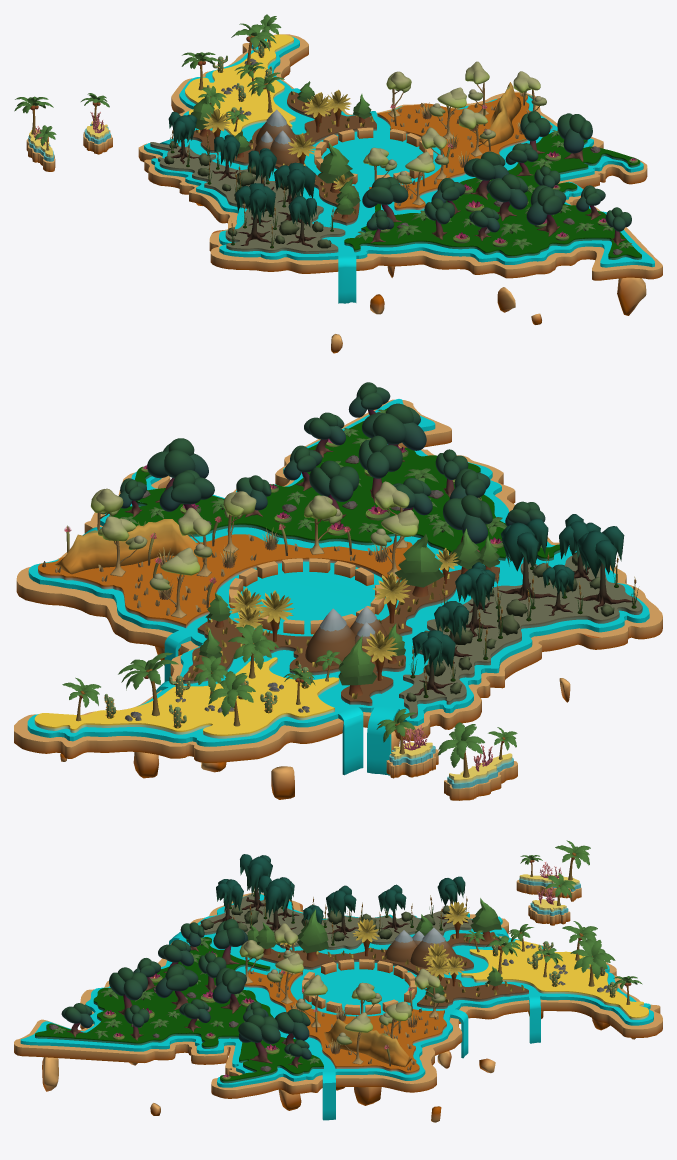
The model's file is Colombia Con Imagenes.fbx.
The picture shows the model from 3 angles, top to bottom: view 1: azimuth 30°, elevation 25°; view 2: azimuth 150°, elevation 25°; view 3: azimuth 270°, elevation 25°; orthographic projection. The views are drawn at different scales.
Visible parts, largest first — view 1: Malla agua 1, Malla Piso Colombia, Malla Amazonas, Malla Pacifico, Malla Orinoquia, Malla Atlantico, Malla Andina, Muro.009, Arbol Pacifico.005, Arbol Amazonas.007, Montañas orinoquia, Arbol Amazonas.006 (+31 smaller); view 2: Malla agua 1, Malla Piso Colombia, Malla Amazonas, Malla Orinoquia, Malla Atlantico, Malla Pacifico, Malla Andina, Montañas orinoquia, Muro.009, Arbol Pacifico.007, Arbol Pacifico.005, Arbol Amazonas.007 (+44 smaller); view 3: Malla agua 1, Malla Piso Colombia, Malla Amazonas, Malla Atlantico, Malla Orinoquia, Malla Andina, Malla Pacifico, Muro.009, Montañas orinoquia, Arbol Amazonas.012, Arbol Pacifico.007, Arbol Amazonas.006 (+36 smaller).
Boxes of the visible parts, x1=… form: Malla agua 1: x1=144, y1=36, x2=654, y2=303; Malla Piso Colombia: x1=138, y1=34, x2=662, y2=280; Malla Amazonas: x1=344, y1=133, x2=641, y2=259; Malla Pacifico: x1=150, y1=142, x2=345, y2=253; Malla Orinoquia: x1=369, y1=93, x2=552, y2=210; Malla Atlantico: x1=185, y1=34, x2=295, y2=136; Malla Andina: x1=186, y1=91, x2=376, y2=225; Muro.009: x1=314, y1=127, x2=433, y2=184; Arbol Pacifico.005: x1=235, y1=183, x2=275, y2=245; Arbol Amazonas.007: x1=526, y1=185, x2=566, y2=236; Montañas orinoquia: x1=476, y1=82, x2=521, y2=146; Arbol Amazonas.006: x1=486, y1=174, x2=528, y2=220; Malla agua 1: x1=27, y1=399, x2=649, y2=775; Malla Piso Colombia: x1=14, y1=399, x2=662, y2=762; Malla Amazonas: x1=111, y1=408, x2=560, y2=567; Malla Orinoquia: x1=38, y1=534, x2=412, y2=628; Malla Atlantico: x1=34, y1=657, x2=339, y2=738; Malla Pacifico: x1=399, y1=555, x2=642, y2=718; Malla Andina: x1=183, y1=566, x2=499, y2=705; Montañas orinoquia: x1=53, y1=519, x2=197, y2=574; Muro.009: x1=229, y1=558, x2=384, y2=634; Arbol Pacifico.007: x1=498, y1=518, x2=556, y2=600; Arbol Pacifico.005: x1=574, y1=526, x2=633, y2=612; Arbol Amazonas.007: x1=362, y1=403, x2=426, y2=471; Malla agua 1: x1=20, y1=894, x2=653, y2=1120; Malla Piso Colombia: x1=14, y1=893, x2=662, y2=1098; Malla Amazonas: x1=35, y1=937, x2=323, y2=1083; Malla Atlantico: x1=461, y1=940, x2=648, y2=1019; Malla Orinoquia: x1=244, y1=970, x2=446, y2=1074; Malla Andina: x1=260, y1=932, x2=528, y2=1008; Malla Pacifico: x1=199, y1=893, x2=497, y2=949; Muro.009: x1=302, y1=959, x2=416, y2=1014; Montañas orinoquia: x1=324, y1=1018, x2=411, y2=1067; Arbol Amazonas.012: x1=238, y1=1014, x2=280, y2=1063; Arbol Pacifico.007: x1=258, y1=875, x2=296, y2=932; Arbol Amazonas.006: x1=155, y1=964, x2=198, y2=1009.
Bounding box in the file's own units: 2936 × 1092 × 3771.
Materials: 19 (19 with a texture image).
